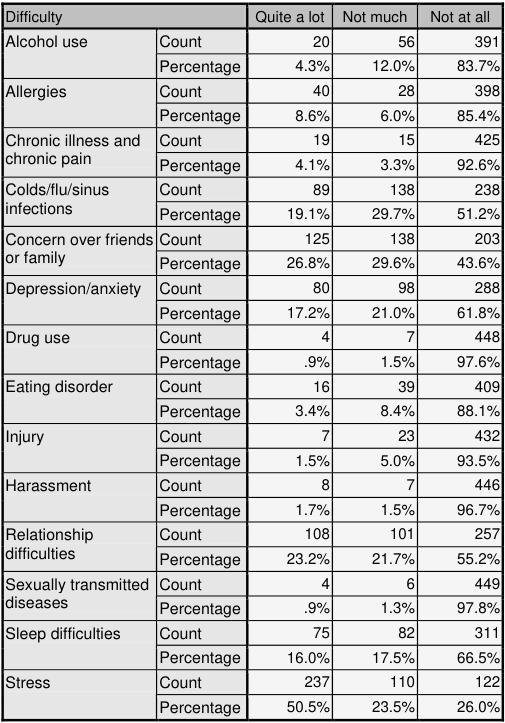table: (4, 4, 499, 716)
table column: (4, 4, 155, 716), (155, 4, 247, 716), (247, 4, 335, 716), (335, 4, 421, 716), (421, 4, 499, 716)
table column header: (4, 4, 499, 77)
table row: (4, 27, 499, 77), (4, 101, 499, 126), (4, 126, 499, 151), (4, 175, 499, 200), (4, 200, 499, 225), (4, 249, 499, 274), (4, 274, 499, 299), (4, 323, 499, 348), (4, 372, 499, 397), (4, 397, 499, 422), (4, 446, 499, 471), (4, 471, 499, 496), (4, 520, 499, 545), (4, 545, 499, 570), (4, 594, 499, 619), (4, 643, 499, 668), (4, 668, 499, 693), (4, 77, 499, 101), (4, 151, 499, 175), (4, 225, 499, 249), (4, 299, 499, 323), (4, 348, 499, 372), (4, 422, 499, 446), (4, 496, 499, 520), (4, 570, 499, 594), (4, 619, 499, 643), (4, 4, 499, 27), (4, 693, 499, 716)
table spanning cell: (4, 175, 155, 225), (4, 372, 155, 422), (4, 520, 155, 570), (4, 77, 155, 126), (4, 126, 155, 175), (4, 225, 155, 274), (4, 274, 155, 323), (4, 323, 155, 372), (4, 422, 155, 471), (4, 471, 155, 520), (4, 570, 155, 619), (4, 619, 155, 668), (4, 668, 155, 716), (247, 4, 335, 77), (335, 4, 421, 77), (421, 4, 499, 77), (4, 4, 247, 27)
